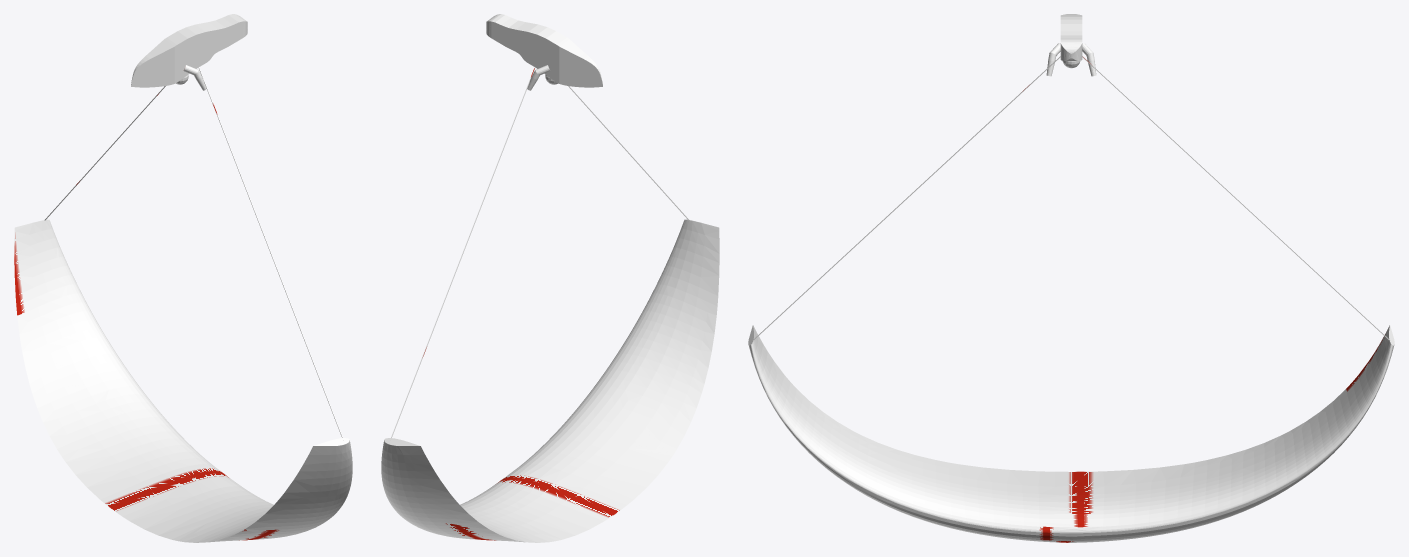
File: para2.glb
3 views of the same model, side by side, from view 1: azimuth 30°, elevation 25°; view 2: azimuth 150°, elevation 25°; view 3: azimuth 270°, elevation 25° (orthographic). The views are drawn at different scales.
Parts seen in each view (by area): view 1: Model_para2; view 2: Model_para2; view 3: Model_para2.
Boxes of the visible parts, bbox=[...] form: Model_para2: bbox=[14, 14, 352, 542]; Model_para2: bbox=[381, 14, 719, 542]; Model_para2: bbox=[748, 14, 1394, 542].
Bounding box in the file's own units: 2.23 × 7.77 × 8.88.
1 material, 1 textured.
